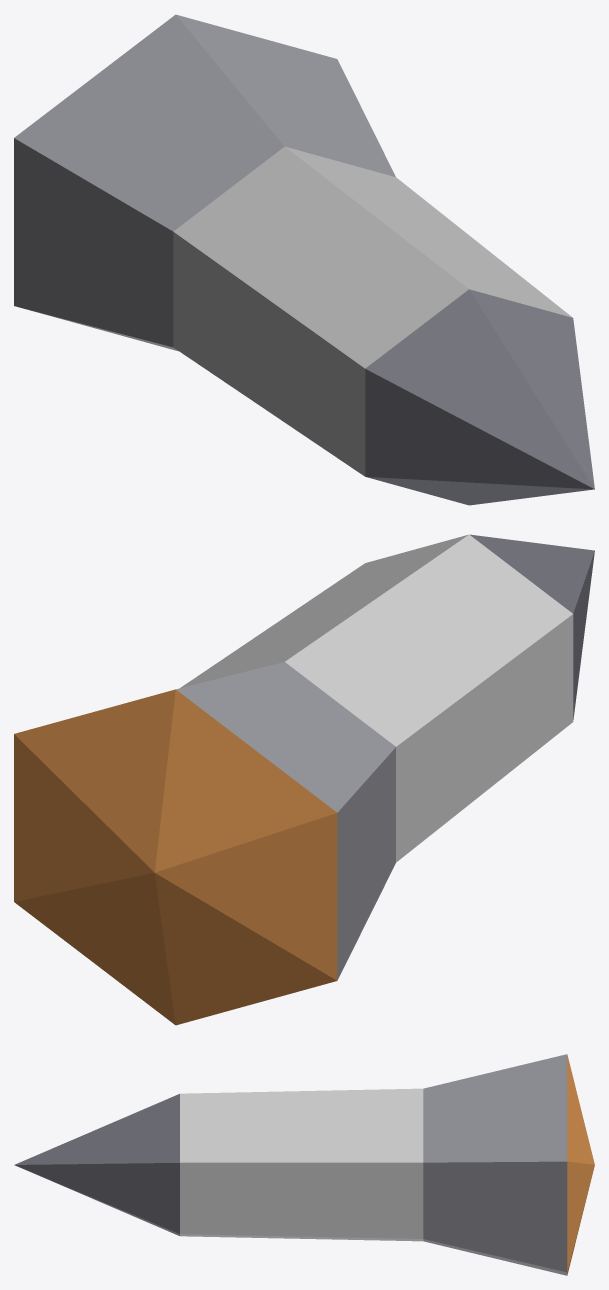
The model's file is engine_slim.obj.
3 renders of one model, top to bottom at view 1: azimuth 30°, elevation 25°; view 2: azimuth 150°, elevation 25°; view 3: azimuth 270°, elevation 25°, orthographic. The views are drawn at different scales.
Parts seen in each view (by area): view 1: engine_slim; view 2: engine_slim; view 3: engine_slim.
Part boxes in pixels (box(x1,y1,x2,y2)): engine_slim: box(14, 14, 594, 505); engine_slim: box(14, 534, 594, 1025); engine_slim: box(14, 1054, 594, 1275).
Size of the model in its own units: 1.56 by 1.55 by 3.67.
